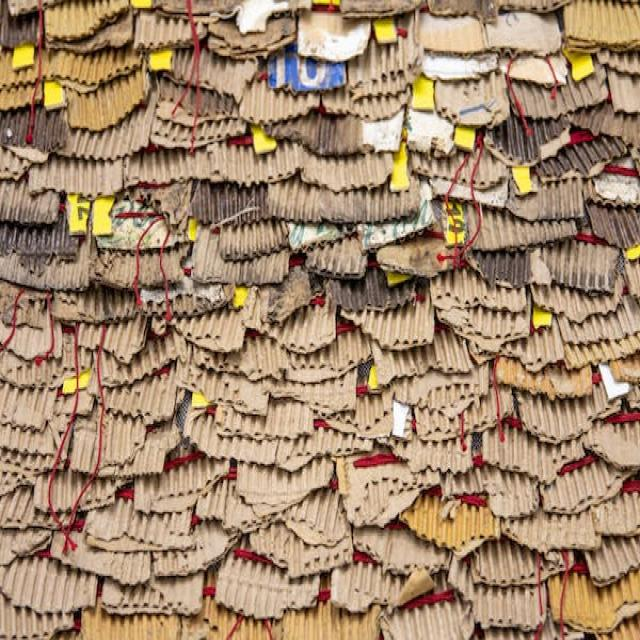Papel: (2, 382, 331, 479), (171, 310, 476, 386), (0, 81, 247, 156), (363, 169, 587, 251), (482, 400, 640, 511), (505, 240, 640, 362), (94, 224, 293, 288), (423, 2, 640, 58), (240, 53, 409, 122), (1, 188, 114, 289), (170, 287, 341, 353), (196, 475, 354, 542), (358, 394, 474, 480), (211, 143, 395, 194), (551, 553, 640, 639), (0, 0, 137, 52), (51, 524, 151, 582), (407, 485, 501, 544), (66, 62, 144, 124), (2, 281, 62, 359), (105, 572, 206, 613), (497, 354, 591, 395), (297, 9, 374, 59), (82, 310, 139, 364), (132, 10, 208, 49), (304, 233, 369, 274), (341, 0, 420, 18)
